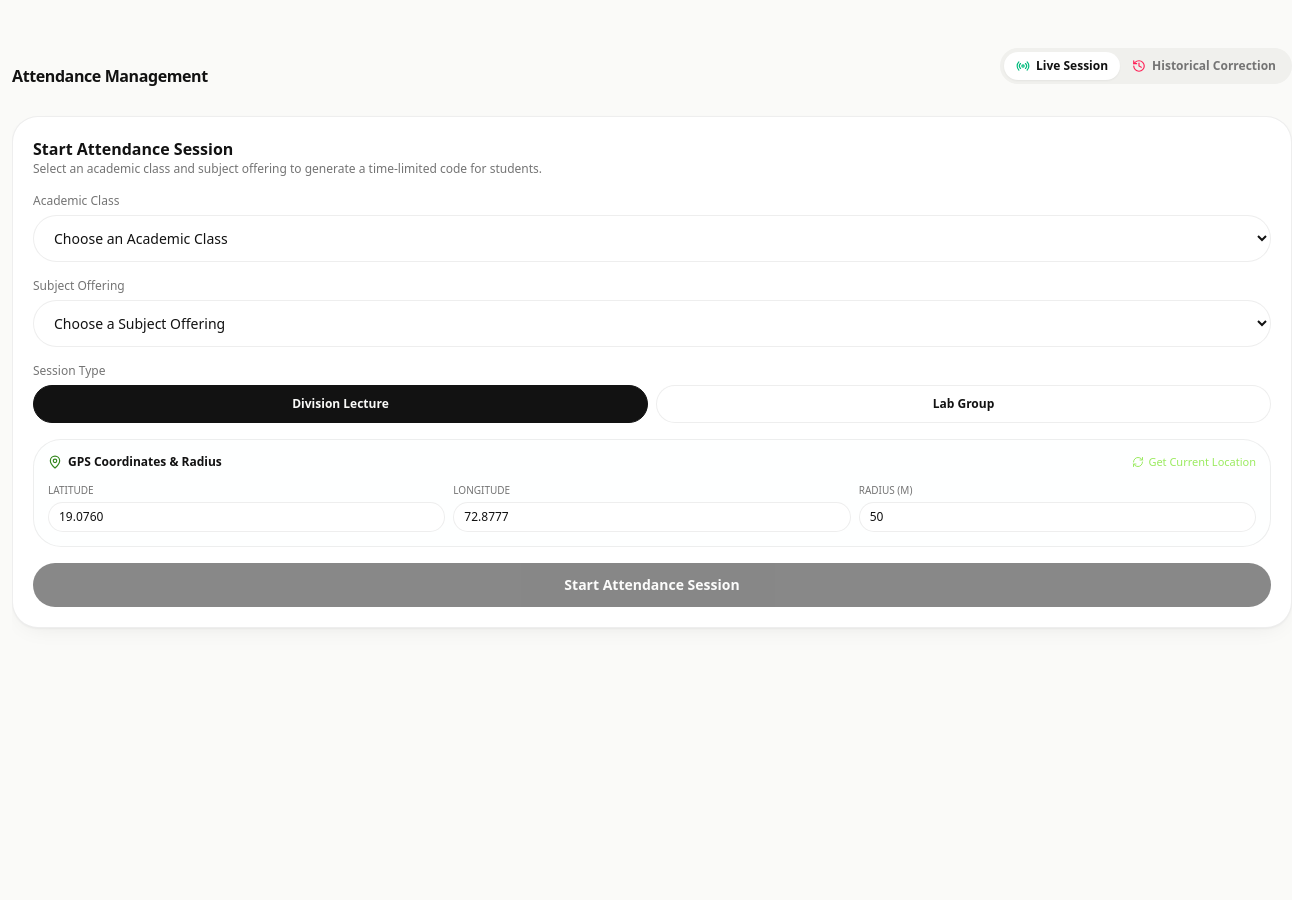
Scenario: AdminAttendance Component › 2. Allows starting an attendance session and displays the active 6-char code and roster
Select "CSE · Batch 2024 · Div A · Sem 4" in the 1st dropdown at (652,238), box [33,215,1271,262]
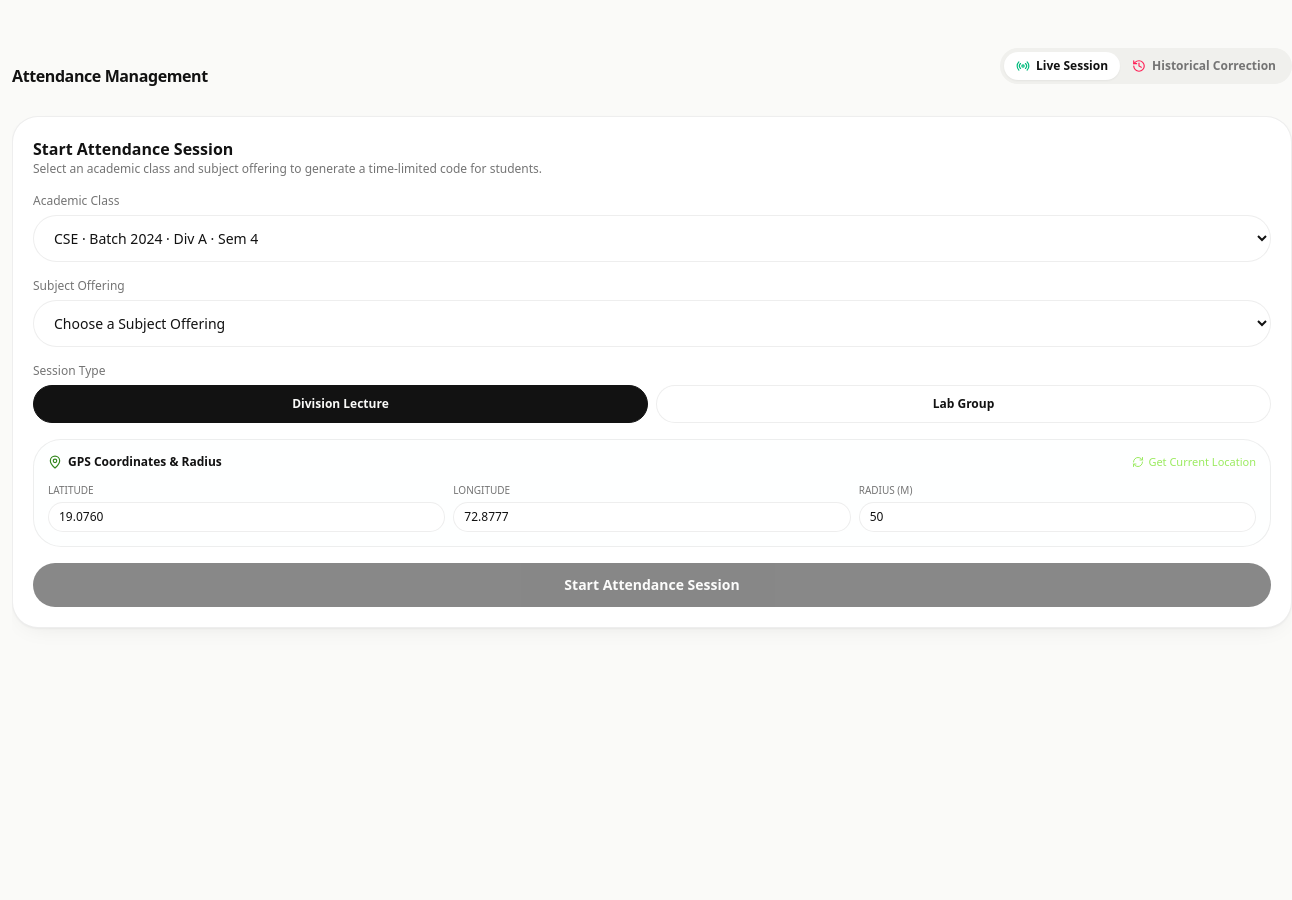
Select "Data Structures (CS201) · Faculty: Dr. Grace Hopper" in the 2nd dropdown at (652,324), box [33,300,1271,347]
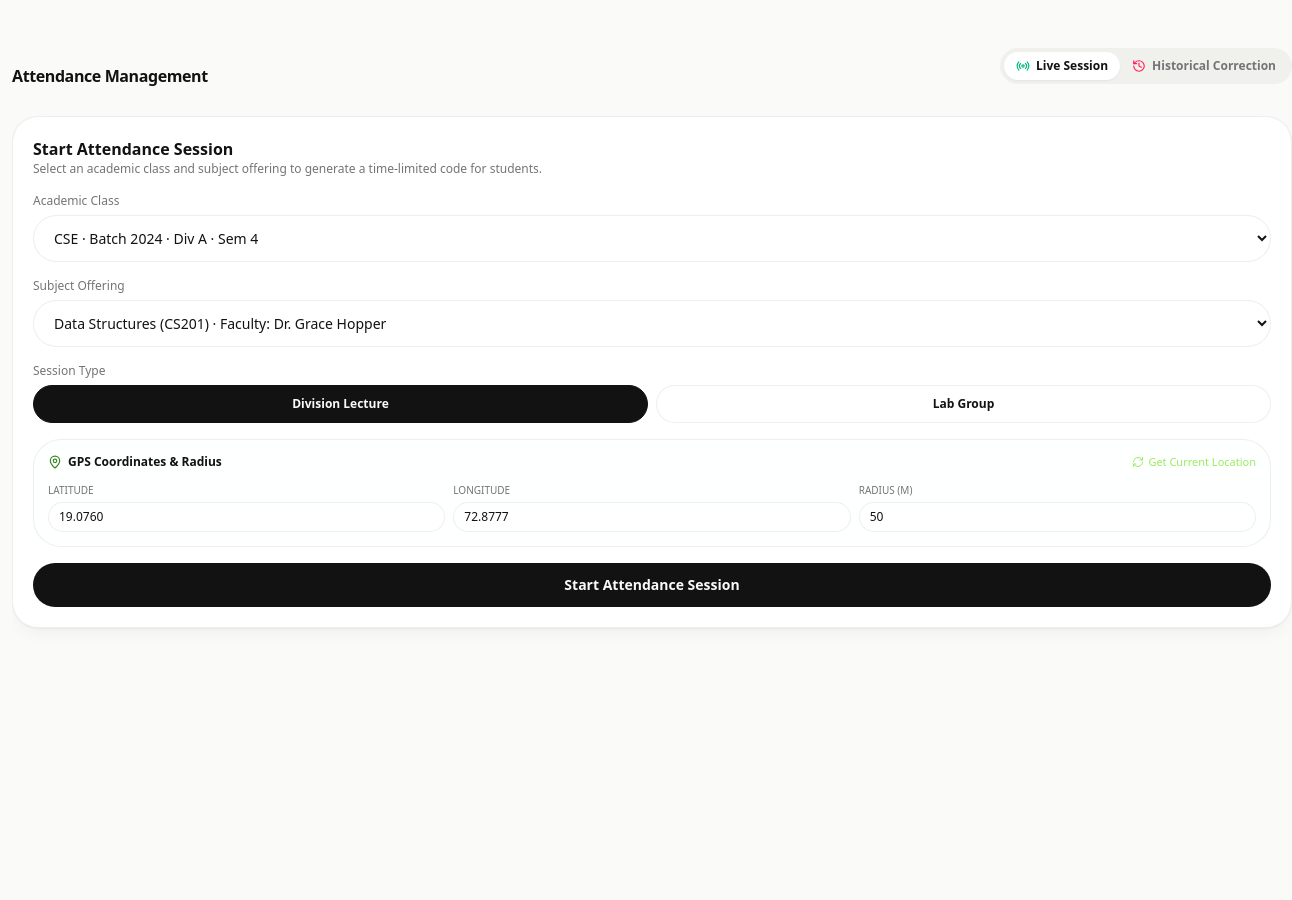
Click the button "Start Attendance Session" at (652,584), box [33,562,1271,606]
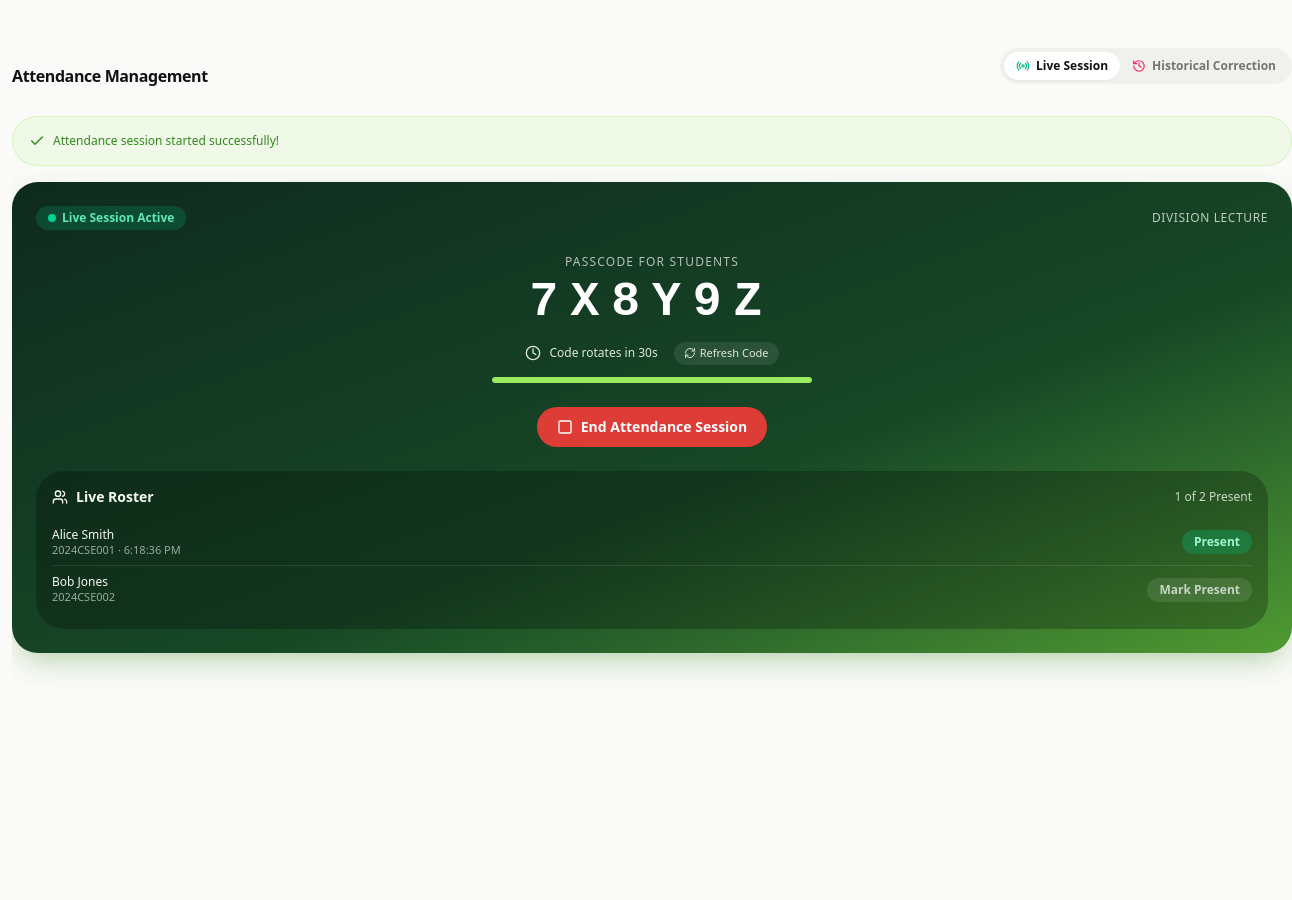
expect the text "Live Session Active" is shown: met, box [36,206,186,230]
expect the text "7X8Y9Z" is shown: met, box [530,275,774,329]
expect the text "Code rotates in 30s" is shown: met, box [549,345,658,361]
// End session
Click the button "End Attendance Session" at (652,427), box [537,407,767,447]
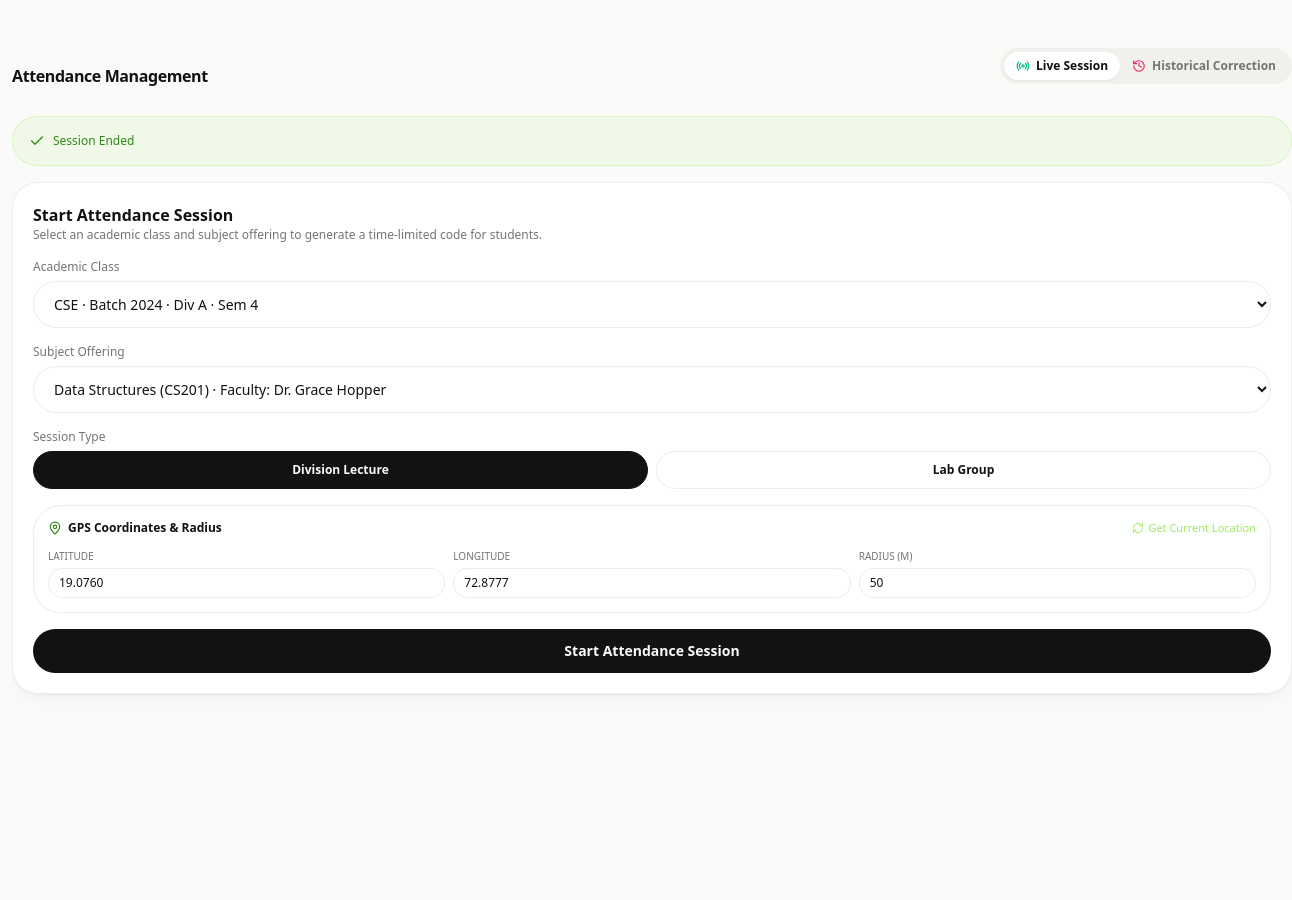
expect the text "Session Ended" is shown: met, box [53,133,134,149]
